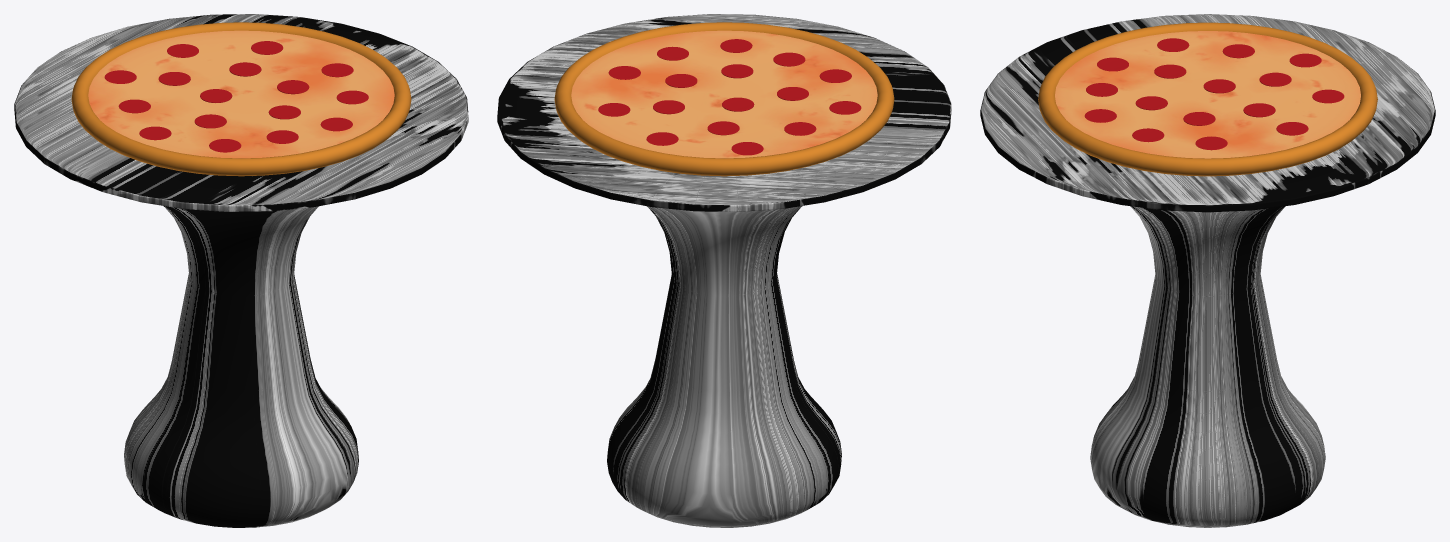
Rendered from saviorPizza.glb.
The picture shows the model from 3 angles, left to right: view 1: azimuth 30°, elevation 25°; view 2: azimuth 150°, elevation 25°; view 3: azimuth 270°, elevation 25°; orthographic projection.
Parts seen in each view (by area): view 1: Cylinder.017, Cylinder, Torus; view 2: Cylinder.017, Cylinder, Torus; view 3: Cylinder.017, Cylinder, Torus.
Boxes of the visible parts, x1,y1,x2,y2 form: Cylinder.017: (14,14,468,527); Cylinder: (88,30,394,158); Torus: (71,22,411,176); Cylinder.017: (497,14,951,527); Cylinder: (571,30,877,158); Torus: (554,22,894,176); Cylinder.017: (980,14,1435,527); Cylinder: (1055,31,1360,158); Torus: (1038,22,1377,176).
Size of the model in its own units: 1.27 by 1.23 by 1.27.
Materials: 4 (2 with a texture image).
